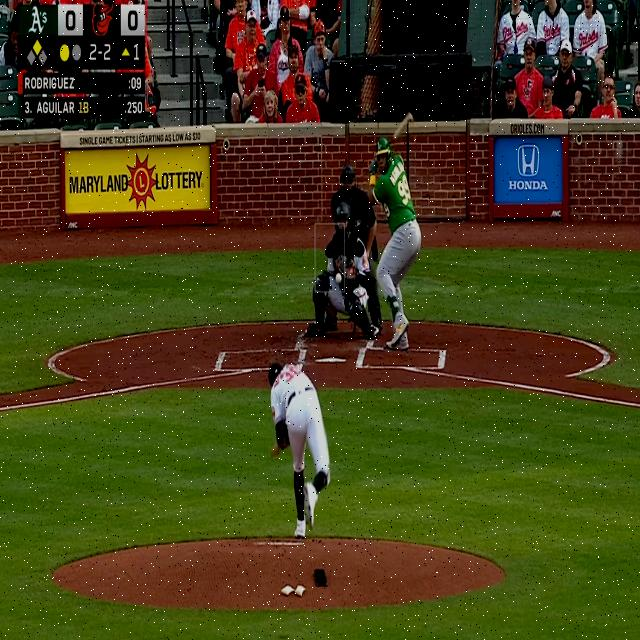baseball: (335, 272, 342, 284)
